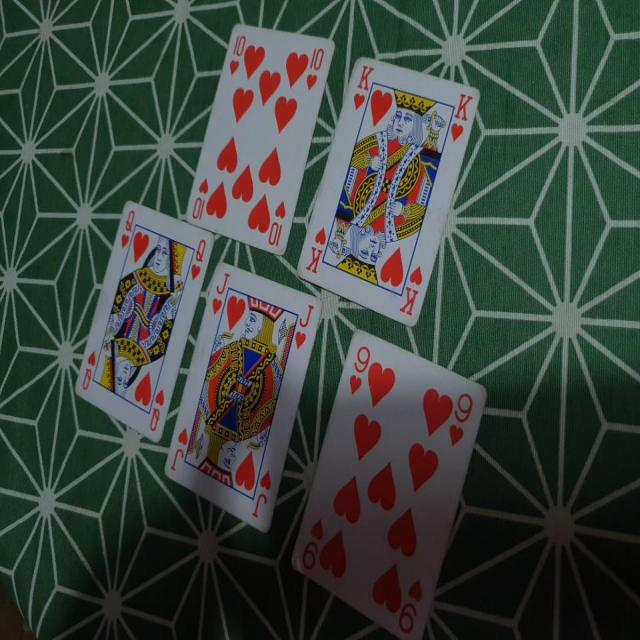10 Hearts: (184, 17, 338, 268)
9 Hearts: (290, 327, 496, 632)
J Hearts: (158, 263, 322, 552)
K Hearts: (288, 50, 487, 333)
Q Hearts: (70, 198, 218, 449)
